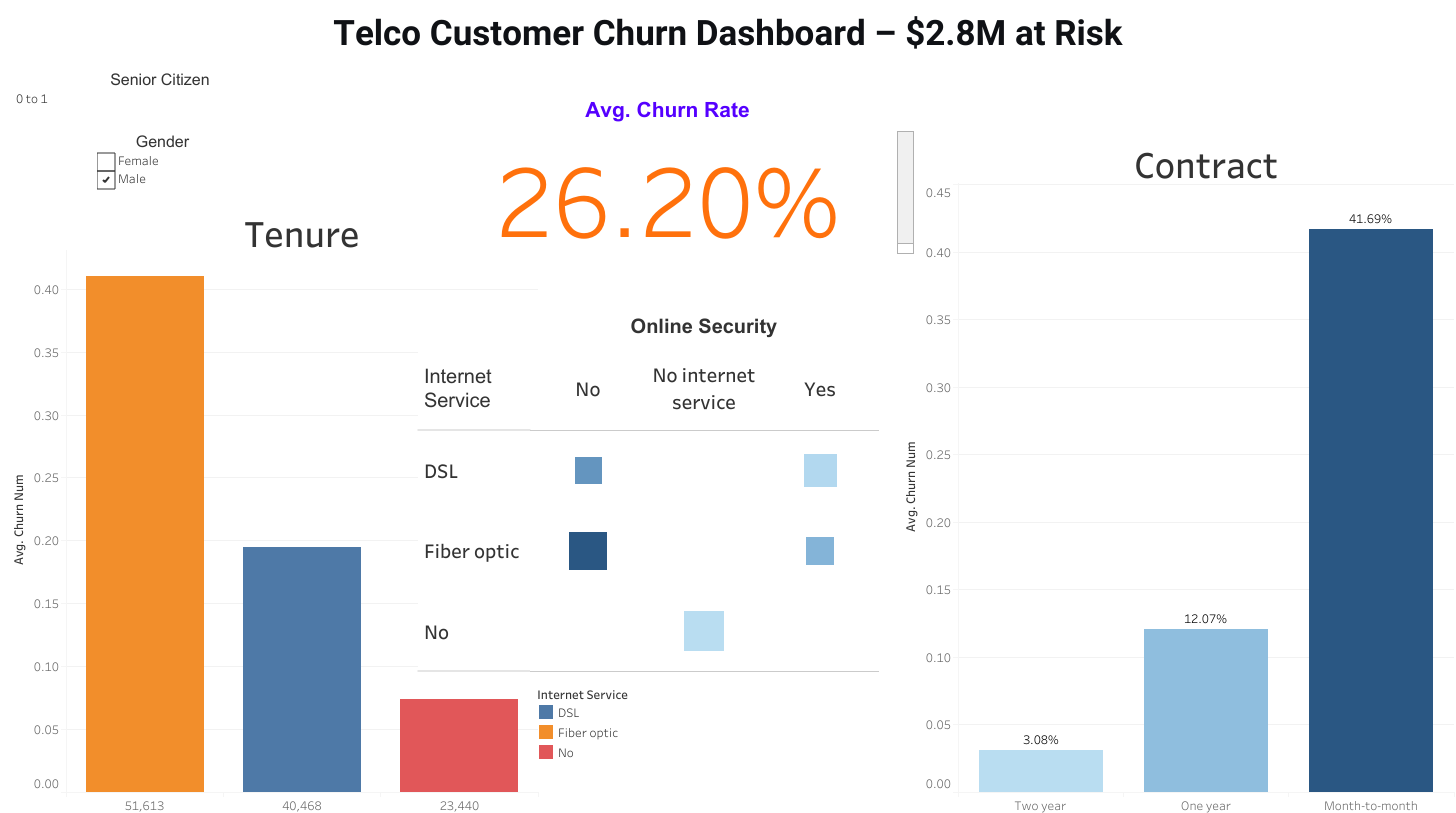

The page's visual inventory and layout, read from the dashboard file:
{"tool":"tableau","page":{"name":"Dashboard 1","canvas":[1000,1000],"units":"permille","ordinal":0},"visuals":[{"type":"title","box":[4.8,8.8,990.4,60.8]},{"type":"filter","title":"Sheet 1","param":"[federated.0g3ss2r17w7v8y11tkp0v0ijn3h9].[none:SeniorCitizen:qk]","box":[9,85.2,202,76.3]},{"type":"worksheet","title":"Sheet 1","mark":"Automatic","box":[301.3,111.7,326.4,199.1]},{"type":"filter","title":"Sheet 4","param":"[federated.0g3ss2r17w7v8y11tkp0v0ijn3h9].[Action (Gender)]","box":[66.3,161.5,90.9,104]},{"type":"worksheet","title":"Sheet 2","mark":"Automatic","rows":["Churn_Num"],"cols":["Contract"],"box":[613.3,175.9,384.3,824.1]},{"type":"worksheet","title":"Sheet 3","mark":"Automatic","rows":["Churn_Num"],"cols":["tenure"],"box":[1.2,263.3,368.2,736.7]},{"type":"worksheet","title":"Sheet 4","mark":"Automatic","rows":["InternetService"],"cols":["OnlineSecurity"],"box":[286.9,376.1,316.2,449.1]},{"type":"legend","title":"Sheet 3","param":"[federated.0g3ss2r17w7v8y11tkp0v0ijn3h9].[none:InternetService:nk]","box":[368.2,839.6,85.5,115]}]}

Visuals, with their boxes on the dashboard's canvas, which has no fixed pixel size, in thousandths of its width and height (x1, y1, x2, y2). These are canvas units, not pixel positions in the 1456x813 screenshot, which may show the page scaled, cropped or inside an application window:
title: x1=5 y1=9 x2=995 y2=70
"Sheet 1" filter: x1=9 y1=85 x2=211 y2=162
"Sheet 1" worksheet: x1=301 y1=112 x2=628 y2=311
"Sheet 4" filter: x1=66 y1=162 x2=157 y2=266
"Sheet 2" worksheet: x1=613 y1=176 x2=998 y2=1000
"Sheet 3" worksheet: x1=1 y1=263 x2=369 y2=1000
"Sheet 4" worksheet: x1=287 y1=376 x2=603 y2=825
"Sheet 3" legend: x1=368 y1=840 x2=454 y2=955
